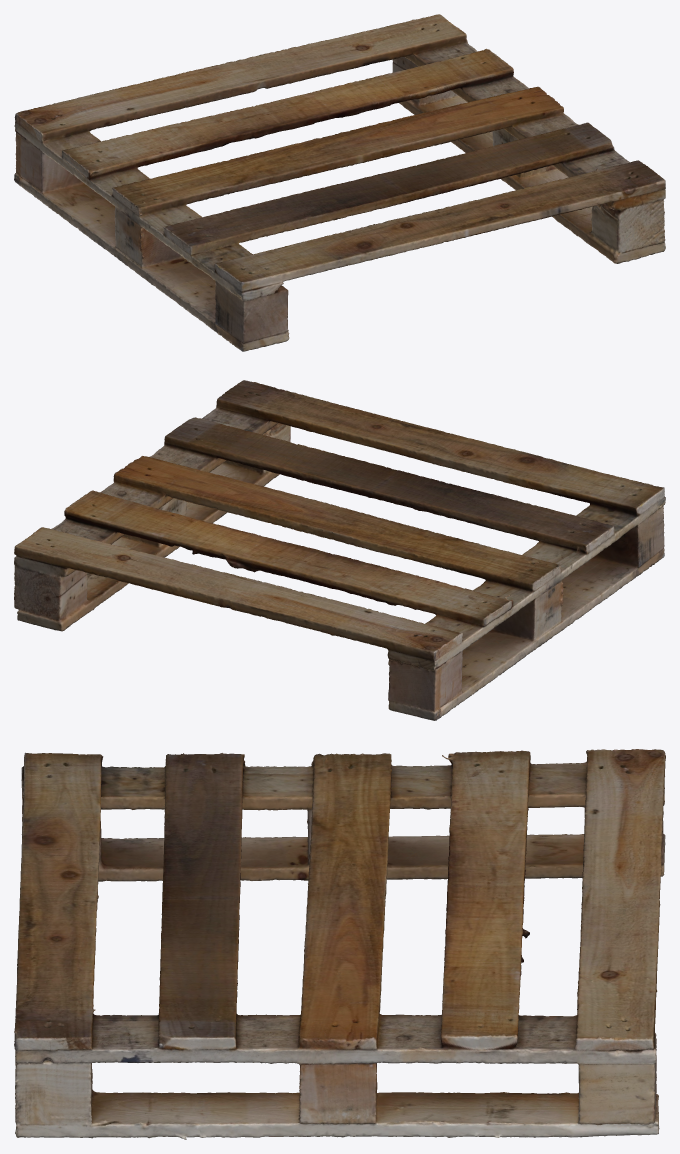
File: Pallet.glb
3 renders of one model, top to bottom at view 1: azimuth 30°, elevation 25°; view 2: azimuth 150°, elevation 25°; view 3: azimuth 270°, elevation 25°, orthographic. The views are drawn at different scales.
Parts seen in each view (by area): view 1: Wooden Pallet; view 2: Wooden Pallet; view 3: Wooden Pallet.
Boxes of the visible parts, <box> form: Wooden Pallet: <box>14,14,665,351</box>; Wooden Pallet: <box>14,380,665,720</box>; Wooden Pallet: <box>14,749,665,1139</box>.
Size of the model in its own units: 0.9181 by 0.154 by 0.8687.
Materials: 1 (1 with a texture image).
